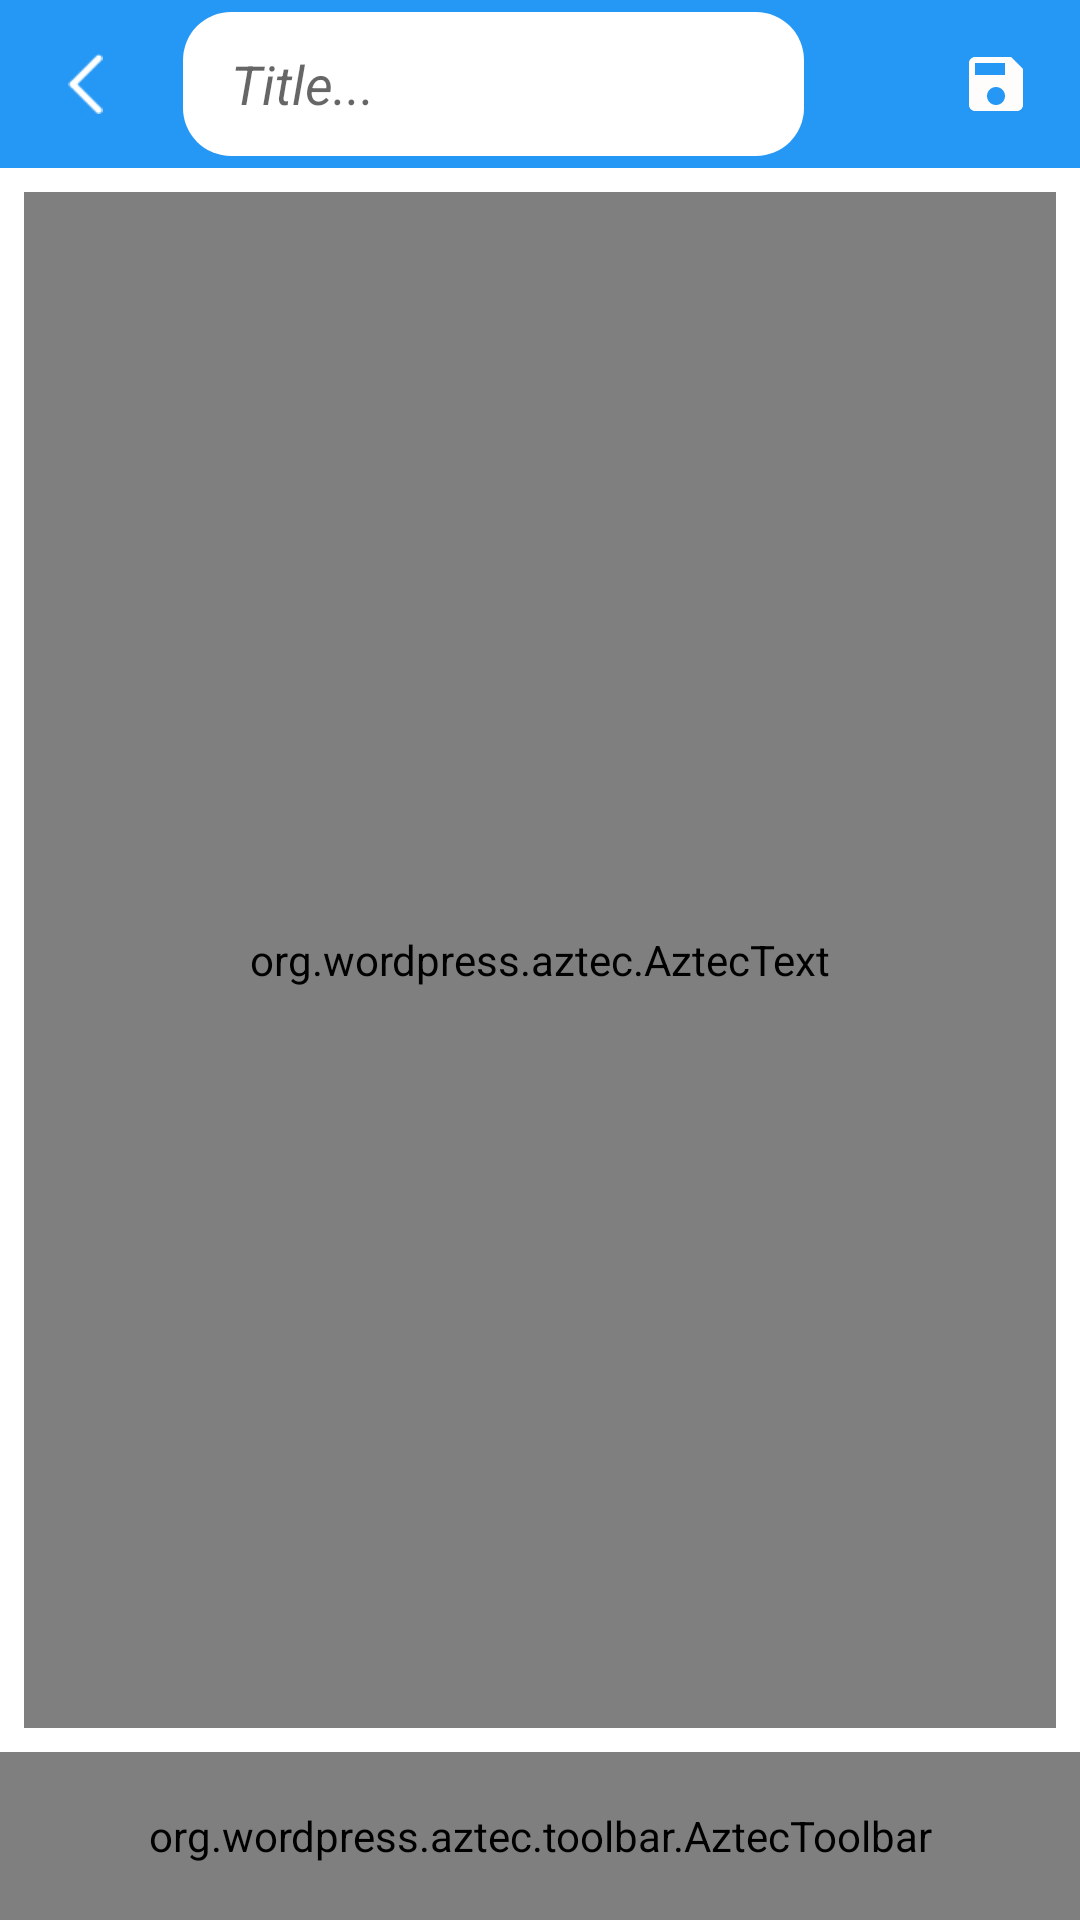

Icons on this 1080*1920 Android screen, each with the point to tap as (x=x, y=y):
back: (x=85, y=84)
save: (x=996, y=84)
